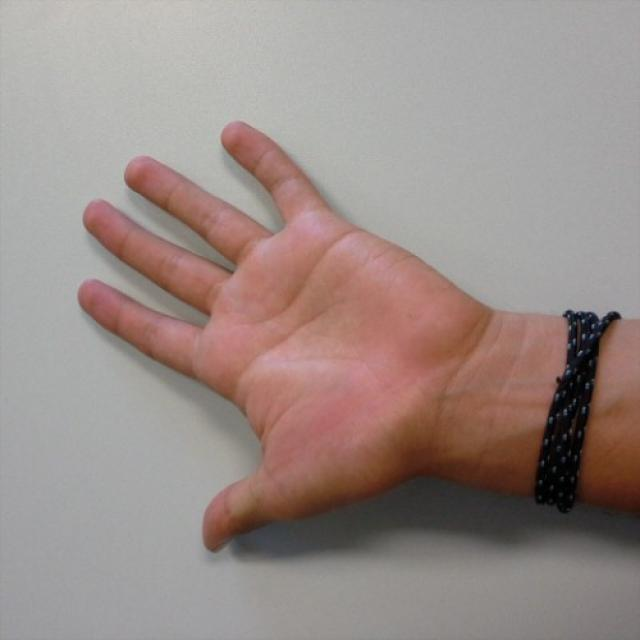paper: (74, 114, 452, 552)
